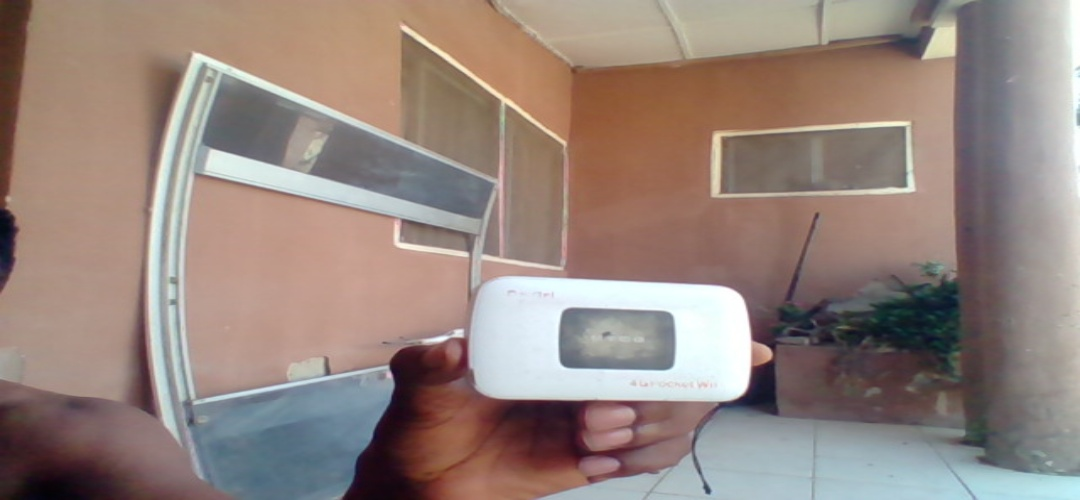mifi: (465, 270, 751, 401)
